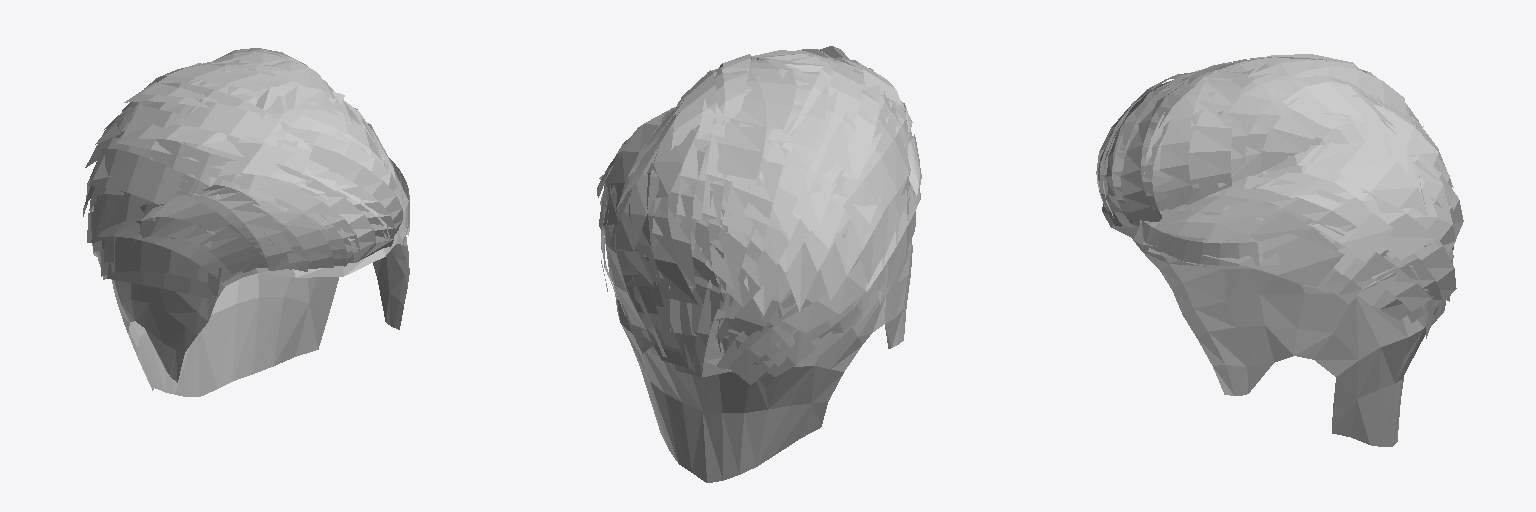
File: hair_011.obj
The picture shows the model from 3 angles: view 1: azimuth 30°, elevation 25°; view 2: azimuth 150°, elevation 25°; view 3: azimuth 270°, elevation 25°; orthographic projection.
Bounding box in the file's own units: 17.67 × 22.85 × 20.59.